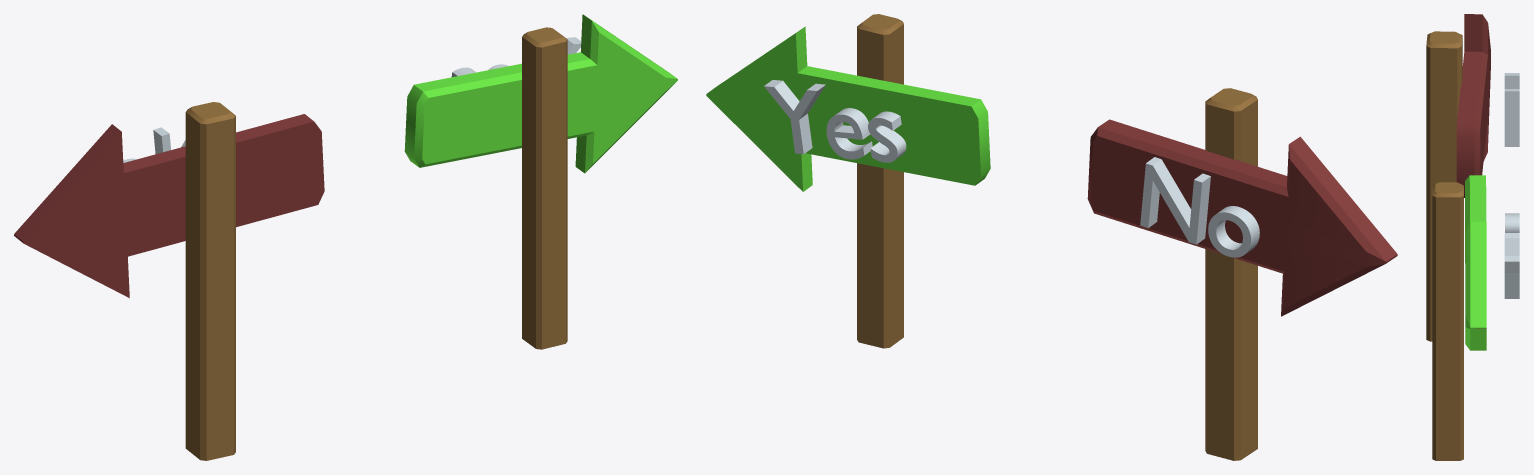
File: YesNo.glb
The picture shows the model from 3 angles, left to right: view 1: azimuth 30°, elevation 25°; view 2: azimuth 150°, elevation 25°; view 3: azimuth 270°, elevation 25°; orthographic projection. The views are drawn at different scales.
Visible parts, largest first — view 1: YesNo; view 2: YesNo; view 3: YesNo.
Part boxes in pixels (x1,y1,x2,y2): YesNo: [14, 14, 677, 460]; YesNo: [706, 14, 1397, 460]; YesNo: [1426, 14, 1519, 460].
Bounding box in the file's own units: 25.49 × 12.63 × 3.6.
